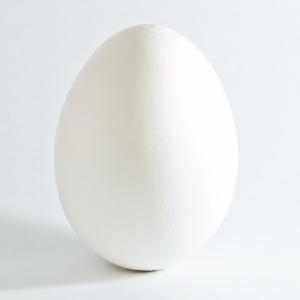Egg: (53, 22, 241, 275)
